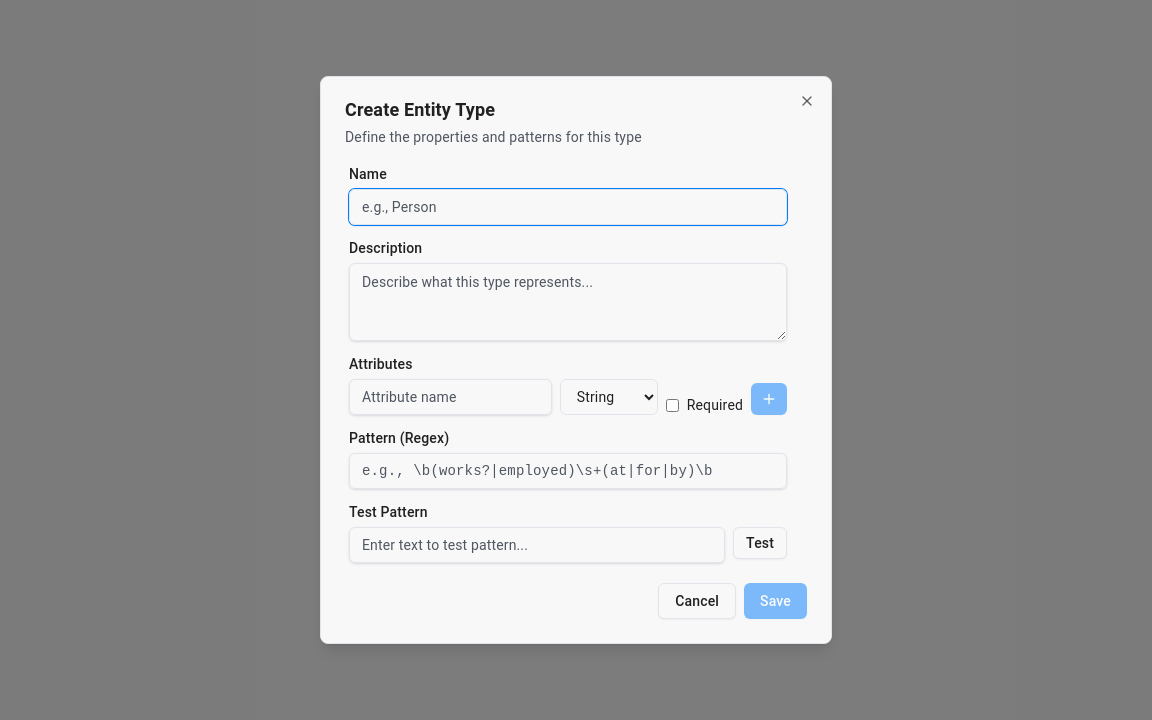
Scenario: TypeEditorDialog › adds attributes for entity types
Step 1. Type "firstName" into the field with placeholder "Attribute name" → {"x": 450, "y": 397}, box [349, 379, 552, 415]
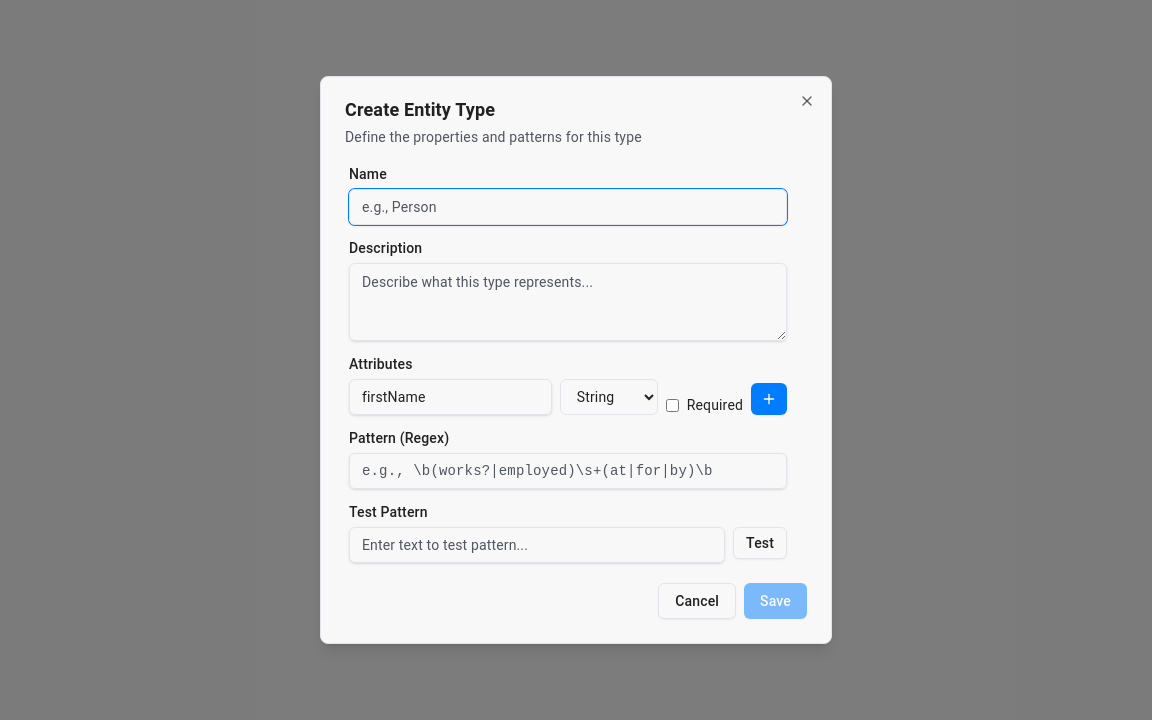
Step 2. Click the button without text next to "Required" → {"x": 769, "y": 399}, box [751, 383, 787, 415]
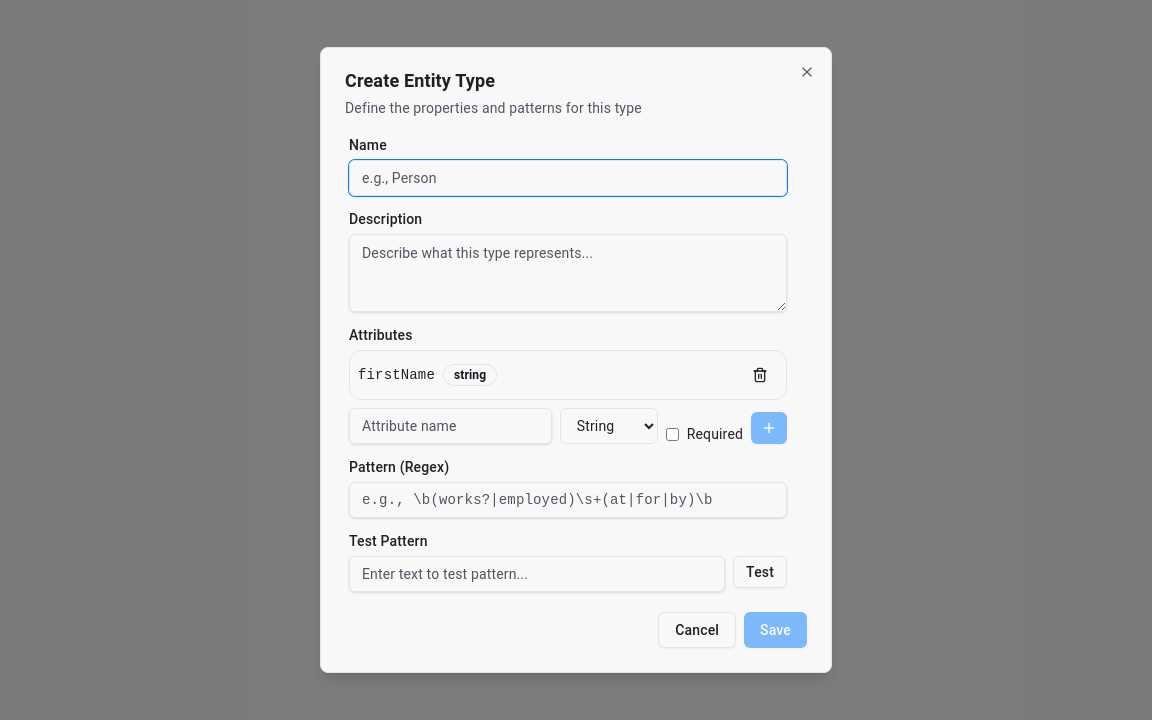
Now the text "firstName" is shown, box [358, 365, 435, 385]
Now the text "string" is shown, box [443, 364, 497, 386]
